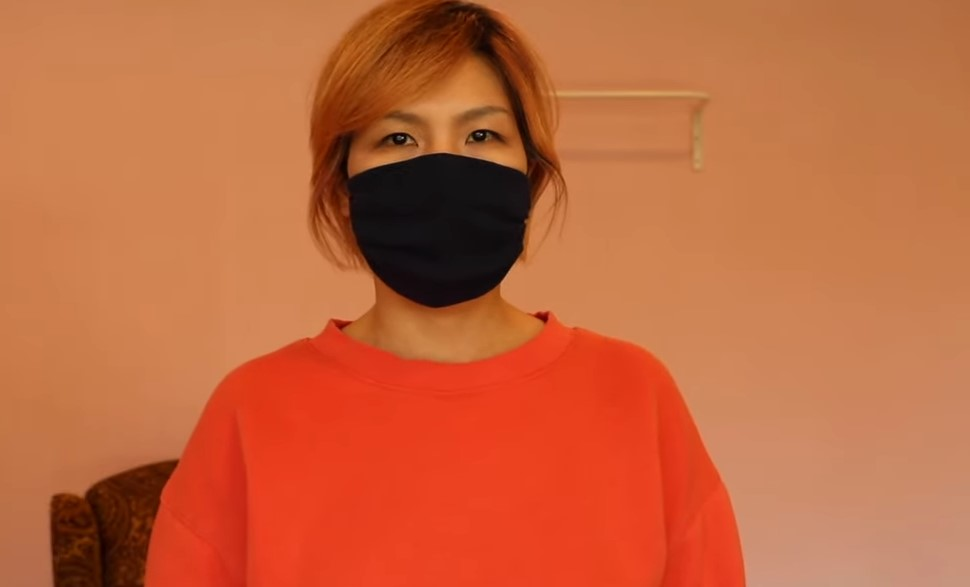face_with_mask: (321, 18, 548, 303)
